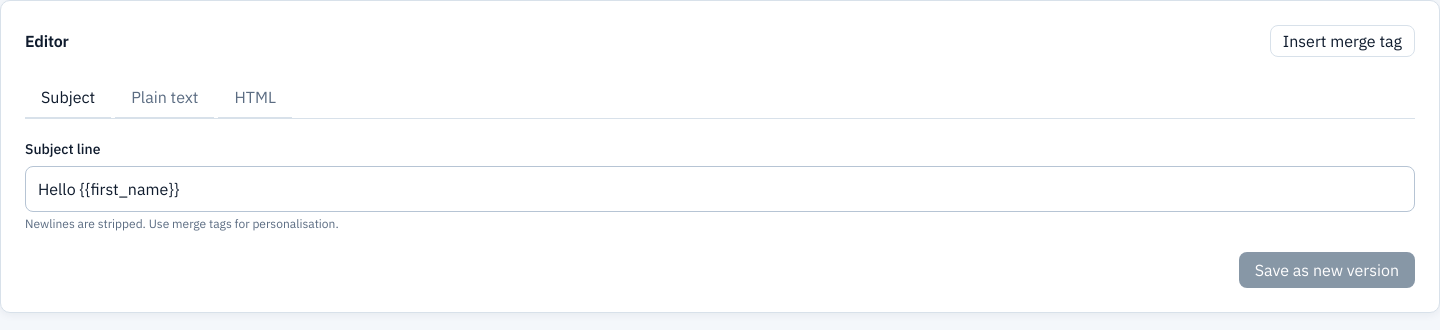
TemplateEditor › save button is enabled after editing subject
Replace the text in the field labelled "Subject line" with "Updated subject" at (720,189), box [25, 166, 1415, 212]
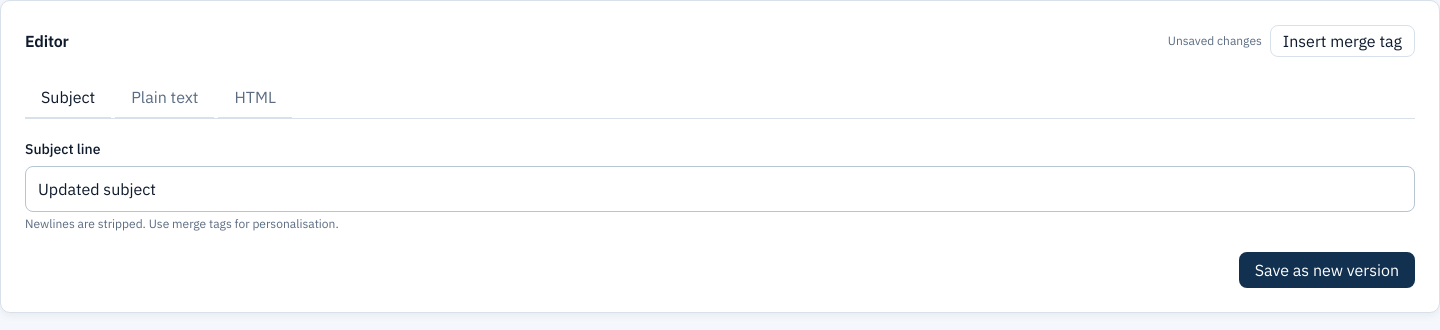
Check: the button "Save as new version" is enabled, box [1239, 252, 1415, 288]
